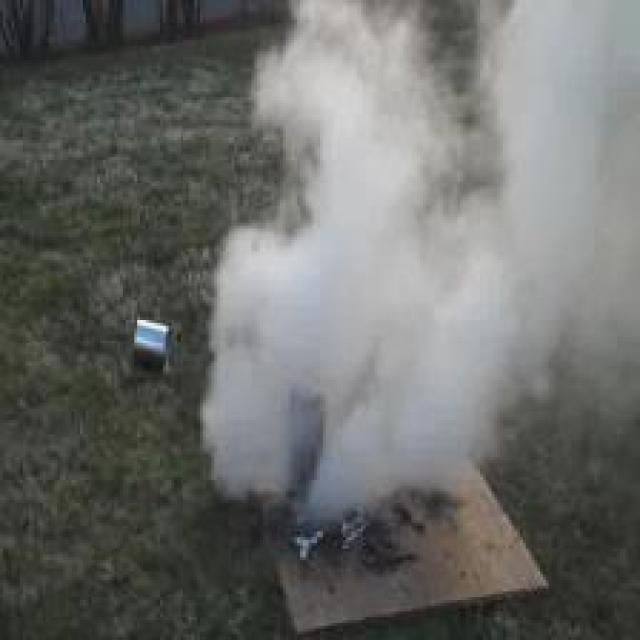Smoke: (205, 0, 640, 518)
